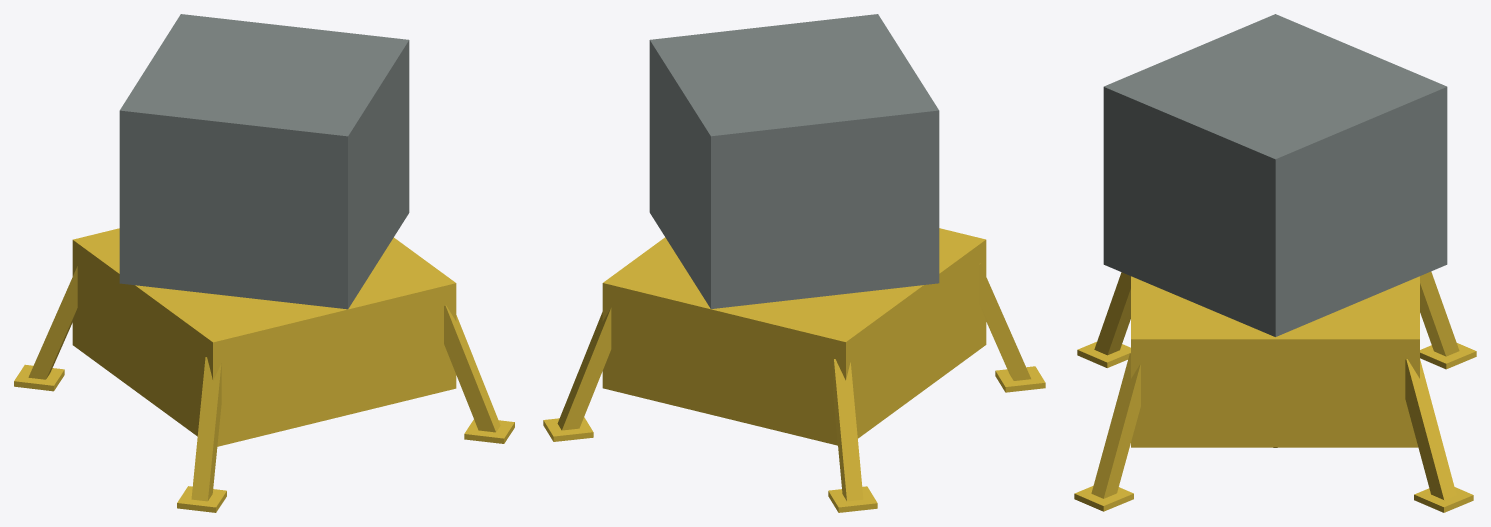
3 views of the same model, side by side, from view 1: azimuth 30°, elevation 25°; view 2: azimuth 150°, elevation 25°; view 3: azimuth 270°, elevation 25° (orthographic). The views are drawn at different scales.
Visible parts, largest first — view 1: Cube.001; view 2: Cube.001; view 3: Cube.001.
Boxes of the visible parts, x1,y1,x2,y2 form: Cube.001: (14, 14, 514, 512); Cube.001: (543, 14, 1045, 512); Cube.001: (1074, 14, 1476, 512).
Size of the model in its own units: 98.59 by 92.37 by 98.59.
